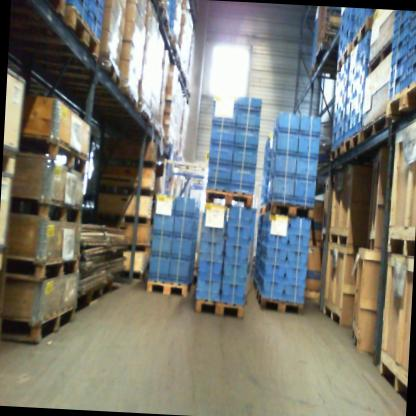pallet: (0, 295, 77, 347), (18, 132, 88, 177), (3, 251, 80, 287), (9, 194, 82, 228), (59, 4, 102, 59), (377, 349, 409, 406), (385, 75, 416, 120), (255, 289, 307, 314), (193, 298, 246, 322), (204, 186, 254, 210), (385, 223, 415, 259), (358, 111, 389, 145), (97, 154, 158, 171), (367, 36, 392, 77), (95, 181, 154, 198), (264, 201, 313, 220), (144, 278, 192, 297), (84, 277, 112, 309), (98, 50, 121, 85), (26, 0, 65, 18), (1, 143, 19, 181), (112, 212, 153, 227), (322, 298, 344, 325), (119, 82, 138, 110), (351, 18, 368, 49), (341, 130, 359, 153), (124, 269, 149, 285), (349, 322, 361, 354), (126, 239, 150, 255), (336, 44, 350, 71), (328, 231, 351, 247), (136, 105, 153, 124), (328, 143, 343, 161), (367, 232, 376, 253), (250, 277, 259, 290), (258, 204, 265, 215)
small_load_carrier: (389, 39, 410, 81), (388, 10, 410, 48), (196, 273, 224, 301), (219, 275, 248, 302), (257, 272, 286, 298), (205, 164, 231, 191), (211, 103, 238, 129), (232, 127, 262, 150), (230, 166, 256, 192), (273, 110, 301, 134), (236, 110, 263, 134), (269, 173, 293, 200), (168, 236, 195, 259), (293, 176, 317, 201), (298, 112, 322, 137), (148, 252, 172, 277), (272, 132, 298, 155), (261, 222, 287, 245), (198, 215, 225, 237), (173, 215, 196, 240), (257, 255, 287, 274), (222, 240, 252, 259), (152, 212, 176, 235), (224, 220, 249, 242), (222, 257, 247, 279), (198, 252, 223, 274), (207, 146, 234, 166), (271, 154, 298, 174), (297, 136, 320, 159), (231, 148, 255, 170), (260, 241, 291, 258), (210, 127, 235, 148), (167, 258, 192, 279), (149, 234, 175, 254), (153, 192, 177, 213), (226, 203, 253, 221), (197, 235, 224, 253), (287, 212, 310, 233), (66, 0, 91, 19), (237, 94, 260, 114), (88, 4, 105, 31), (295, 158, 318, 177), (174, 197, 196, 216), (284, 259, 304, 278), (285, 278, 303, 299), (286, 232, 309, 248), (284, 248, 308, 260), (407, 40, 416, 71), (407, 21, 416, 51), (408, 12, 416, 32)
